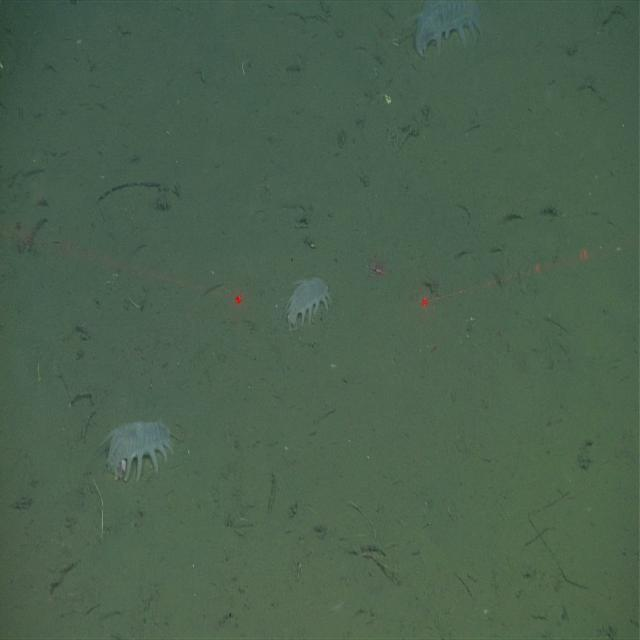Brittle Star: (364, 244, 392, 283)
Not Brittle Star: (96, 410, 177, 488), (407, 2, 483, 63)
